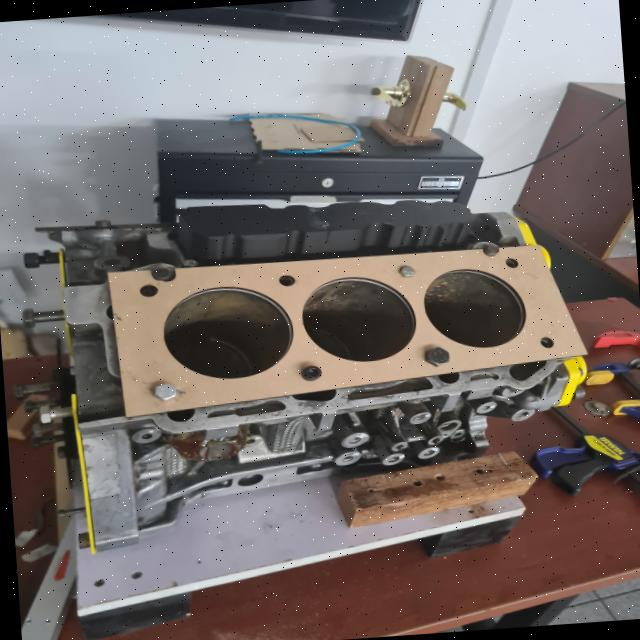tor_v1: (107, 245, 588, 416)
